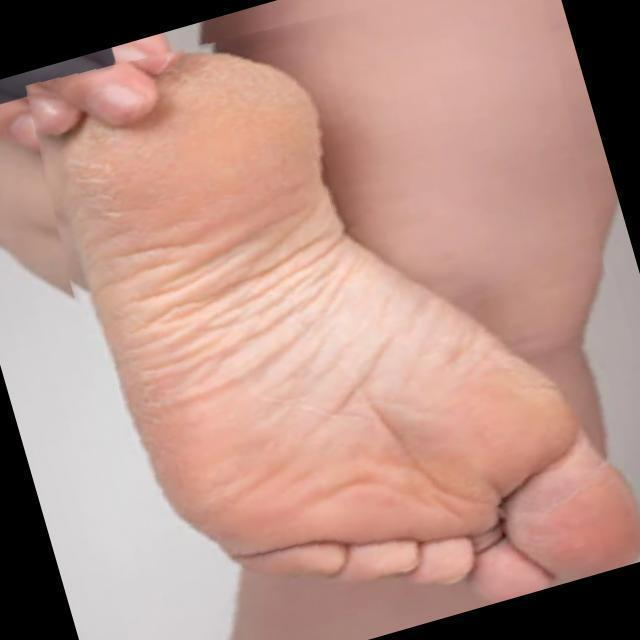No_Shoes: (31, 90, 640, 588)
